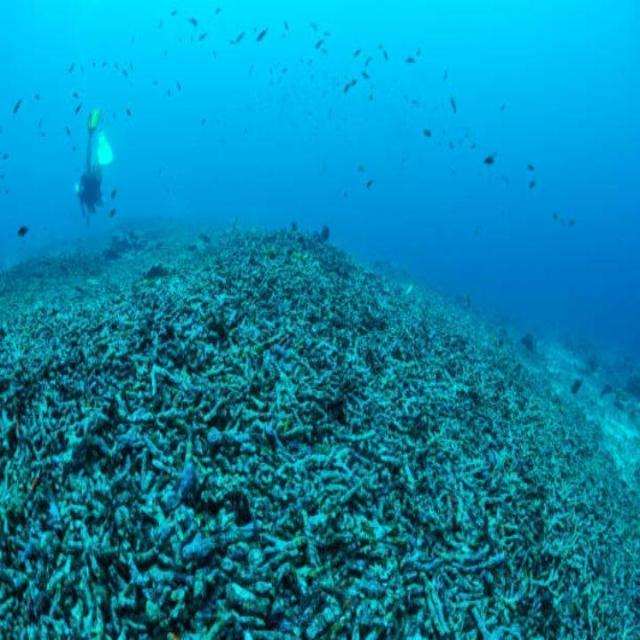Dead Coral: (44, 287, 586, 617)
